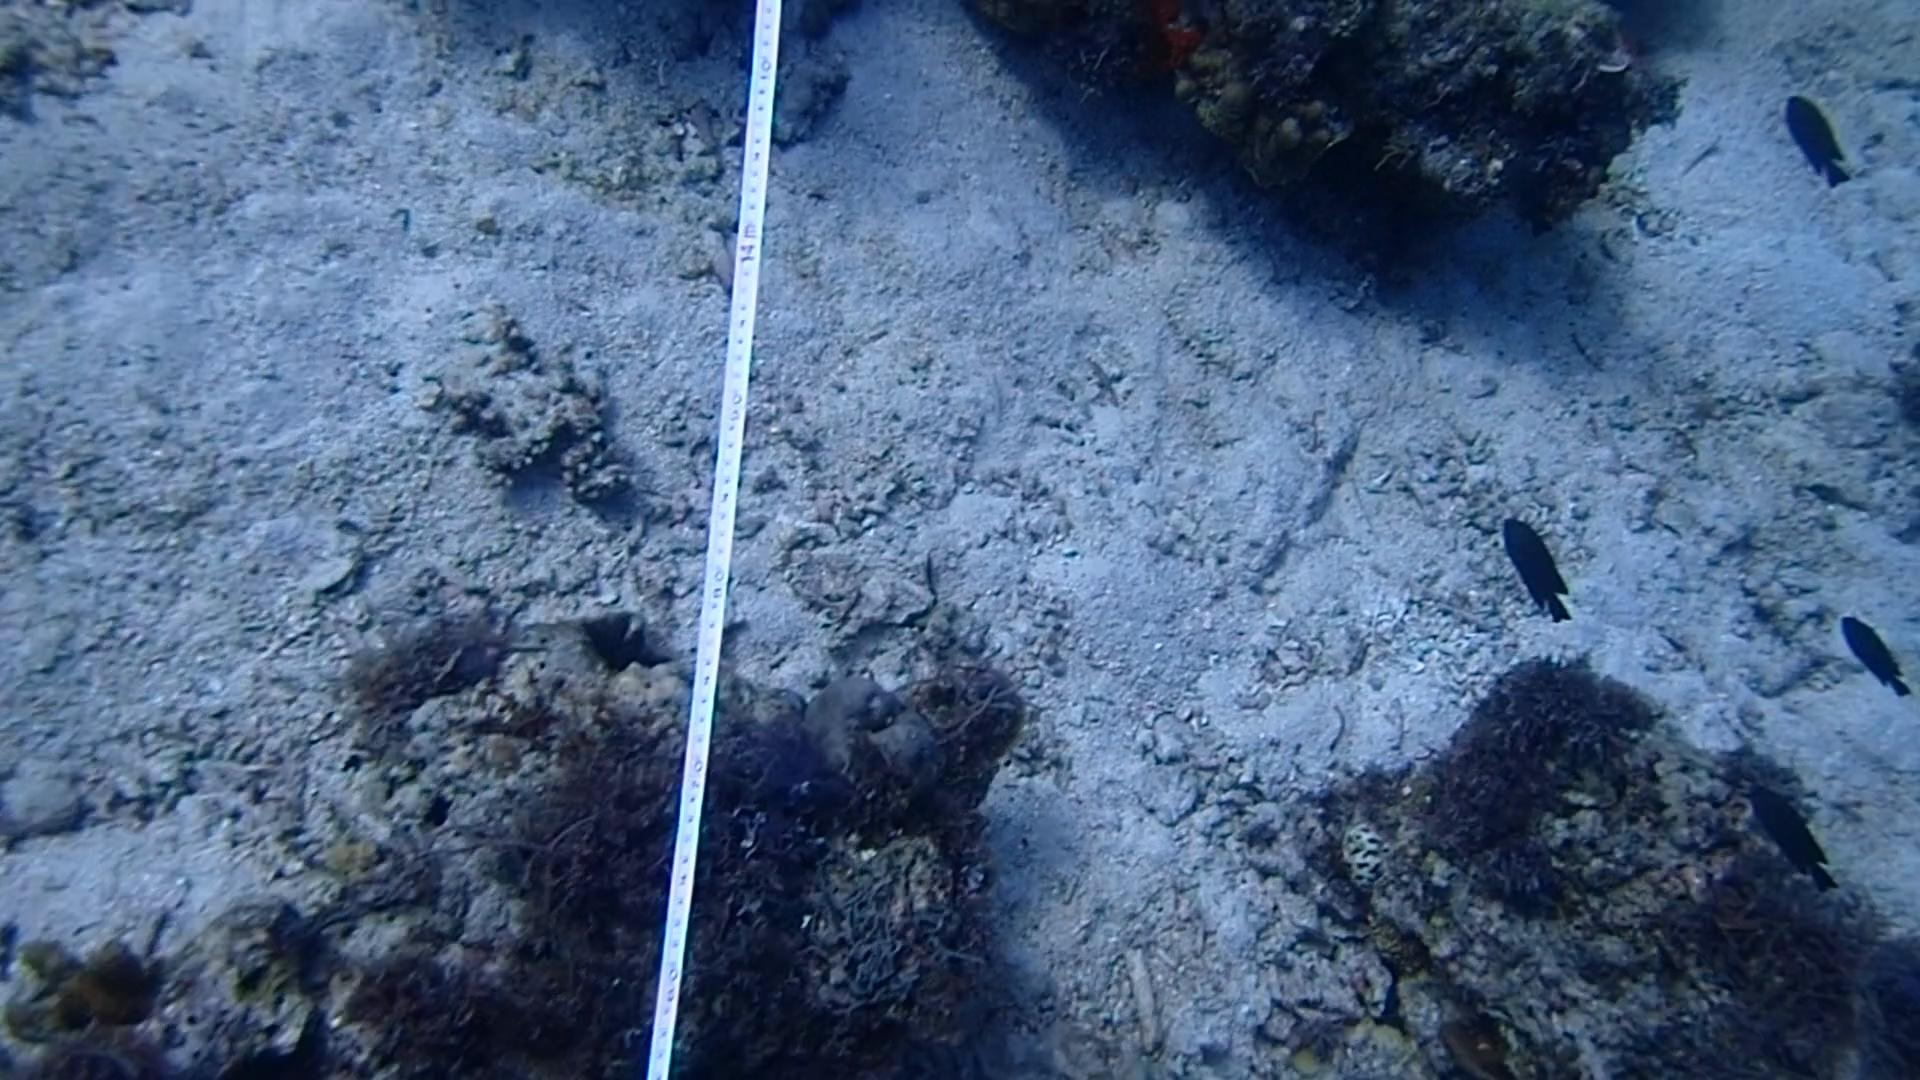Dark Fish: (1727, 773, 1855, 901), (1489, 506, 1575, 634), (1772, 78, 1857, 196), (1828, 596, 1915, 707)
